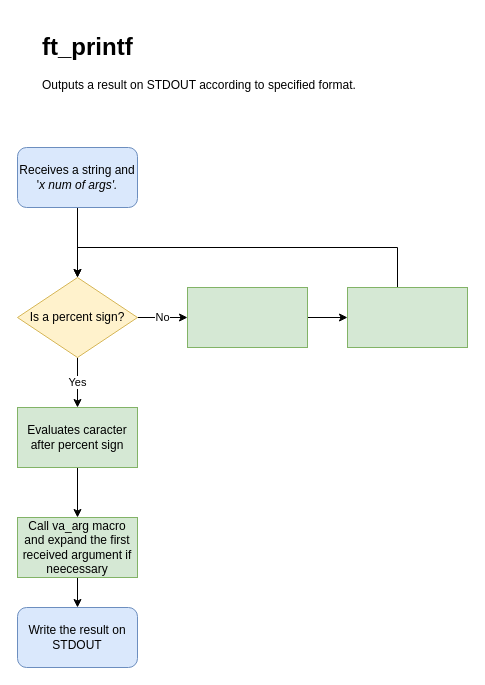
This 485x685 diagram has some shape labels left out. Each missing label, with the centre of its shape:
Go to the next caracter from string: the point at 407,317
Write the caracter from string on STDOUT: the point at 247,317
